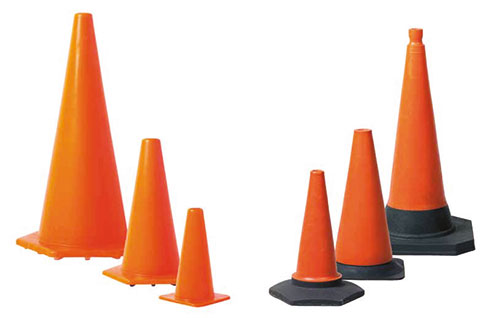cones: (27, 10, 126, 261), (388, 24, 475, 258), (269, 169, 364, 304), (333, 128, 409, 283), (115, 135, 182, 290), (172, 206, 229, 307)
